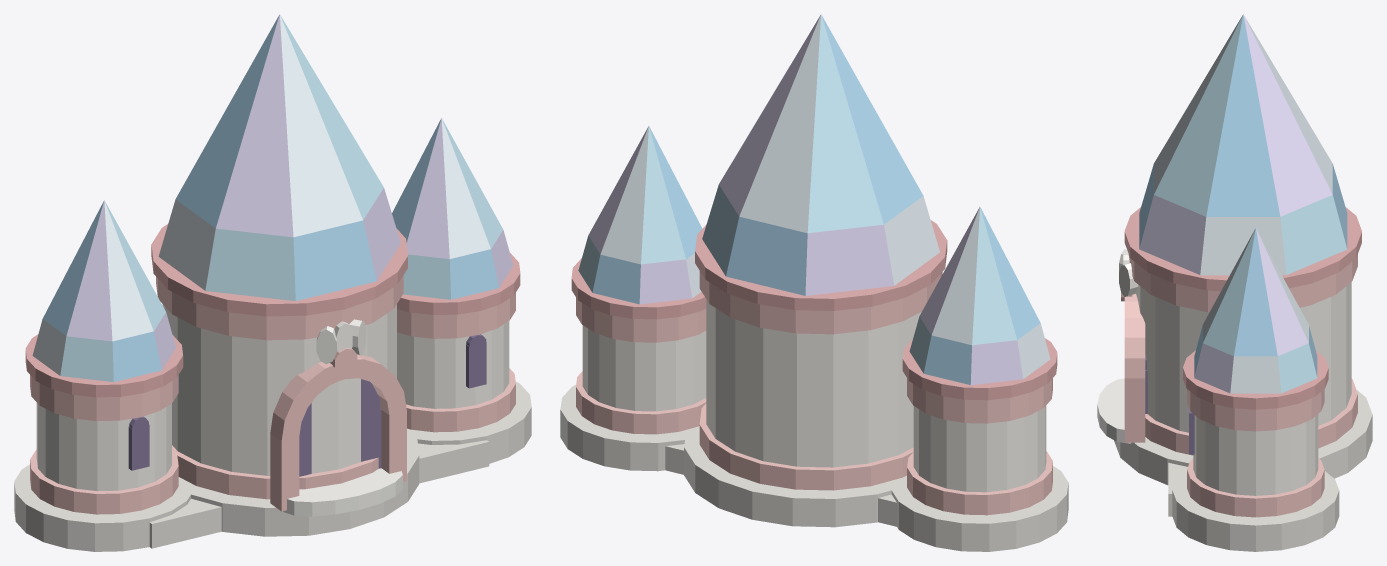
The model's file is crystal_castle.glb.
3 views of the same model, side by side, from view 1: azimuth 30°, elevation 25°; view 2: azimuth 150°, elevation 25°; view 3: azimuth 270°, elevation 25° (orthographic). The views are drawn at different scales.
Visible parts, largest first — view 1: cc_keep_spire, cc_keep_wall, cc_left_spire, cc_right_spire, cc_left_wall, cc_door_frame, cc_right_wall, cc_left_plinth, cc_keep_plinth, cc_keep_cornice, cc_keep_belt_hi, cc_base_link (+14 smaller); view 2: cc_keep_spire, cc_keep_wall, cc_left_spire, cc_right_spire, cc_left_wall, cc_right_wall, cc_keep_plinth, cc_left_plinth, cc_keep_belt_hi, cc_keep_cornice, cc_keep_belt_lo, cc_right_plinth (+7 smaller); view 3: cc_keep_spire, cc_right_spire, cc_keep_wall, cc_right_wall, cc_right_plinth, cc_keep_plinth, cc_keep_cornice, cc_right_belt_lo, cc_keep_belt_hi, cc_door_frame, cc_right_belt_hi, cc_right_cornice (+4 smaller).
Part boxes in pixels (x1=…): cc_keep_spire: x1=158, y1=14, x2=400, y2=301; cc_keep_wall: x1=162, y1=304, x2=396, y2=475; cc_left_spire: x1=32, y1=200, x2=175, y2=381; cc_right_spire: x1=392, y1=118, x2=513, y2=299; cc_left_wall: x1=36, y1=402, x2=171, y2=491; cc_door_frame: x1=270, y1=355, x2=406, y2=511; cc_right_wall: x1=397, y1=321, x2=509, y2=408; cc_left_plinth: x1=14, y1=464, x2=193, y2=551; cc_keep_plinth: x1=191, y1=430, x2=419, y2=536; cc_keep_cornice: x1=151, y1=224, x2=407, y2=316; cc_keep_belt_hi: x1=156, y1=275, x2=403, y2=340; cc_base_link: x1=149, y1=440, x2=489, y2=548; cc_keep_spire: x1=702, y1=14, x2=939, y2=295; cc_keep_wall: x1=706, y1=299, x2=921, y2=467; cc_left_spire: x1=909, y1=207, x2=1050, y2=385; cc_right_spire: x1=578, y1=126, x2=702, y2=304; cc_left_wall: x1=913, y1=405, x2=1046, y2=492; cc_right_wall: x1=582, y1=325, x2=706, y2=411; cc_keep_plinth: x1=684, y1=429, x2=906, y2=527; cc_left_plinth: x1=891, y1=466, x2=1068, y2=551; cc_keep_belt_hi: x1=699, y1=271, x2=942, y2=334; cc_keep_cornice: x1=695, y1=220, x2=947, y2=310; cc_keep_belt_lo: x1=699, y1=403, x2=913, y2=490; cc_right_plinth: x1=560, y1=385, x2=699, y2=471; cc_keep_spire: x1=1139, y1=14, x2=1347, y2=275; cc_right_spire: x1=1194, y1=228, x2=1317, y2=393; cc_keep_wall: x1=1136, y1=282, x2=1351, y2=432; cc_right_wall: x1=1193, y1=414, x2=1318, y2=495; cc_right_plinth: x1=1172, y1=471, x2=1339, y2=551; cc_keep_plinth: x1=1114, y1=390, x2=1372, y2=485; cc_keep_cornice: x1=1124, y1=207, x2=1361, y2=291; cc_right_belt_lo: x1=1187, y1=458, x2=1324, y2=517; cc_keep_belt_hi: x1=1128, y1=254, x2=1357, y2=312; cc_door_frame: x1=1124, y1=293, x2=1145, y2=442; cc_right_belt_hi: x1=1187, y1=389, x2=1324, y2=431; cc_right_cornice: x1=1183, y1=350, x2=1328, y2=409.
Bounding box in the file's own units: 2.52 × 2.26 × 1.32.
